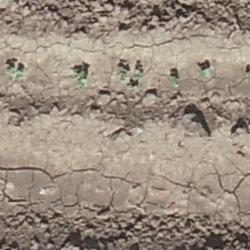cotton: (74, 73, 86, 84), (8, 70, 23, 78), (118, 71, 127, 78), (202, 68, 210, 75), (129, 83, 137, 90), (136, 72, 141, 79)
